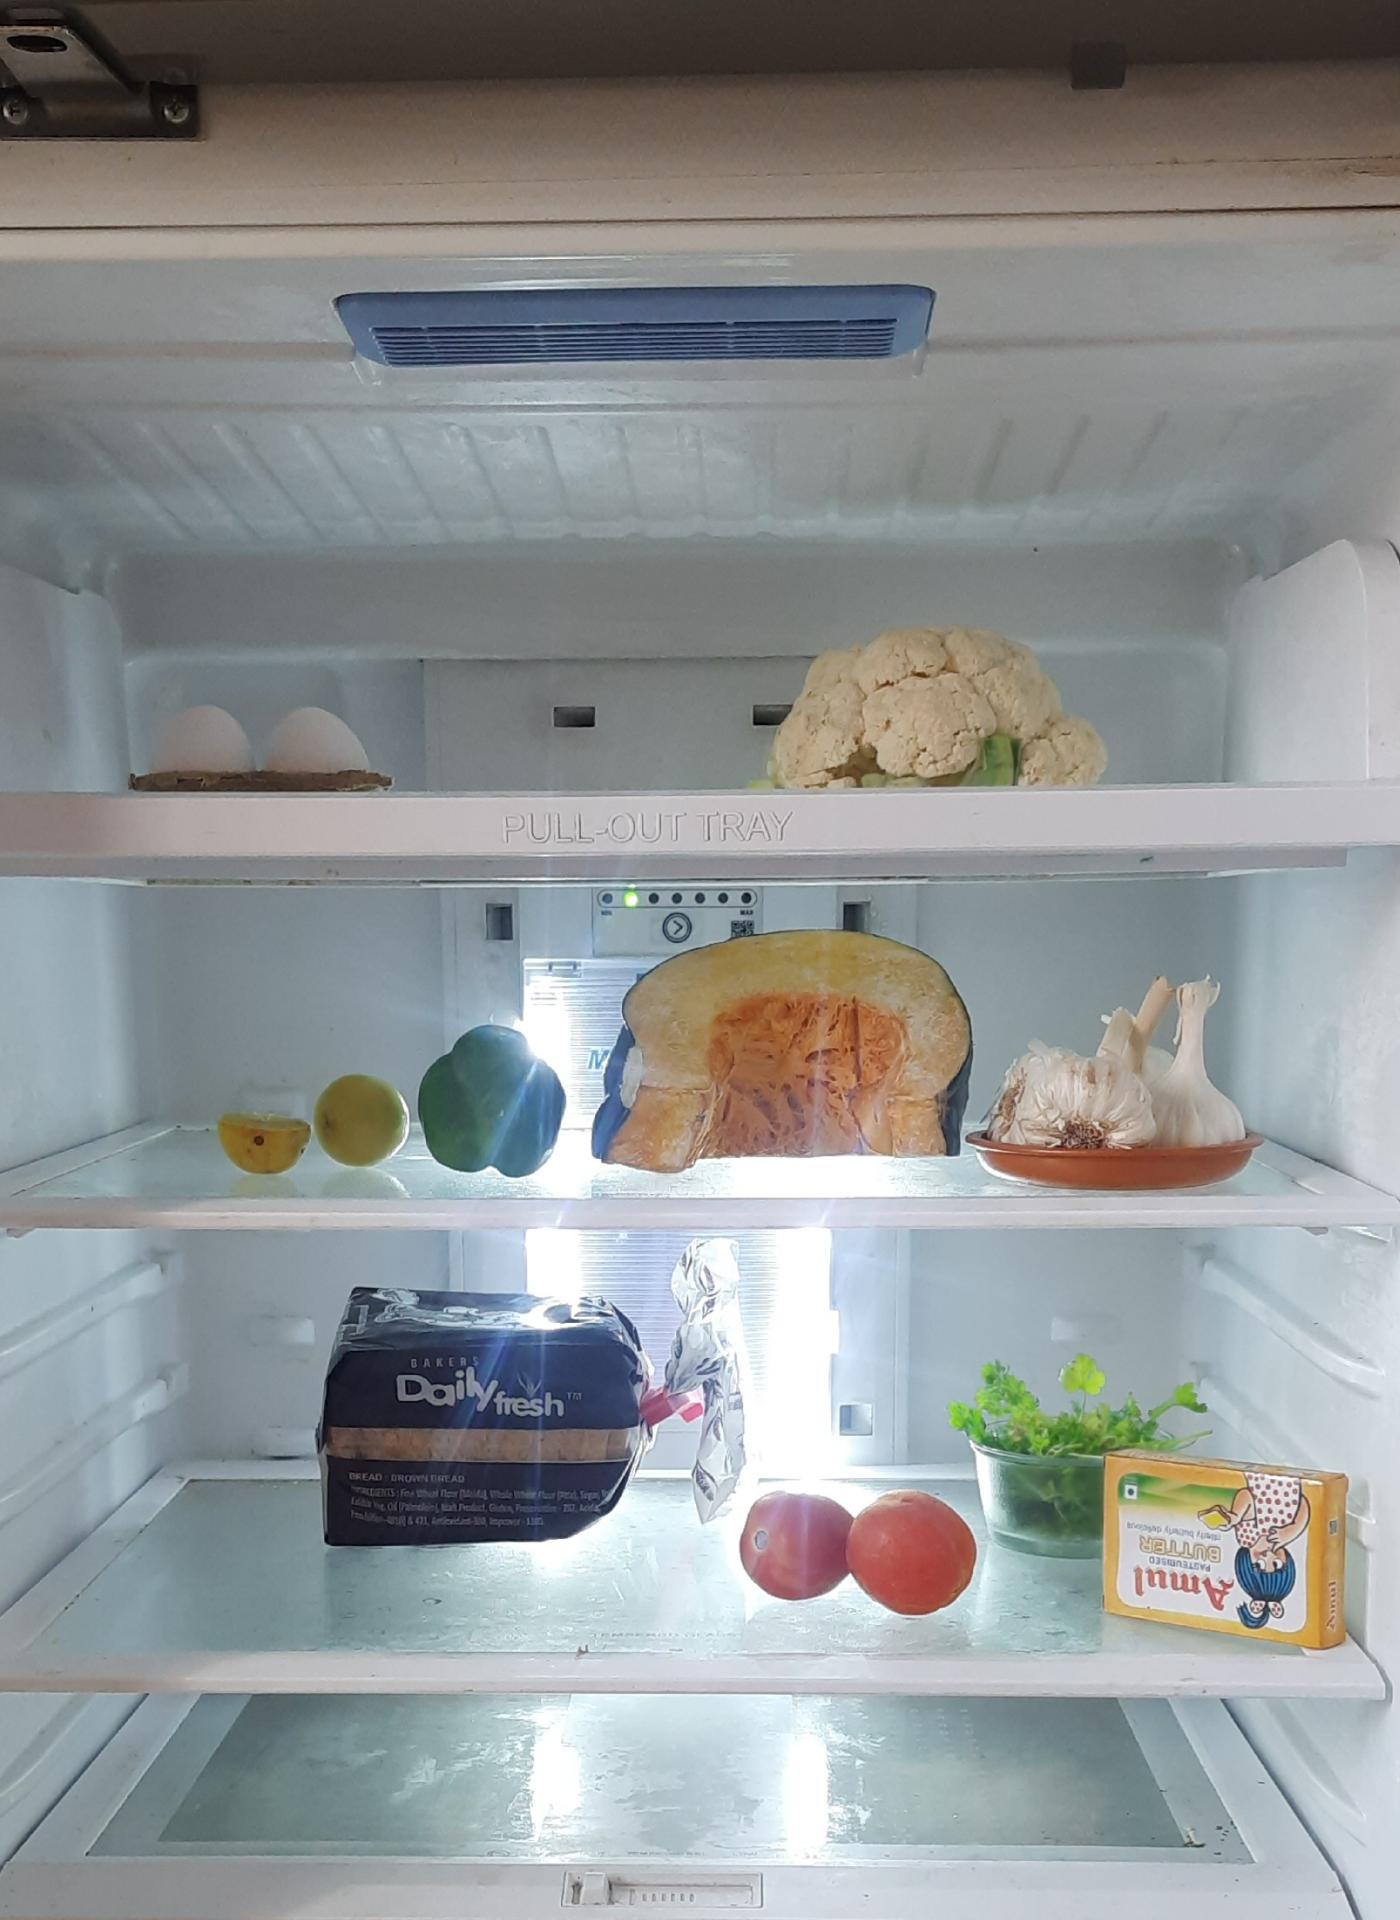bread: (328, 1257, 750, 1549)
butter: (1100, 1458, 1352, 1653)
capsicum: (416, 1012, 567, 1175)
cauliflower: (780, 647, 1121, 787)
coriander: (966, 1360, 1209, 1544)
egg: (146, 701, 376, 778)
garlic: (990, 960, 1249, 1170)
lemon: (212, 1058, 416, 1178)
pumpkin: (593, 924, 972, 1163)
tomato: (734, 1476, 981, 1608)
